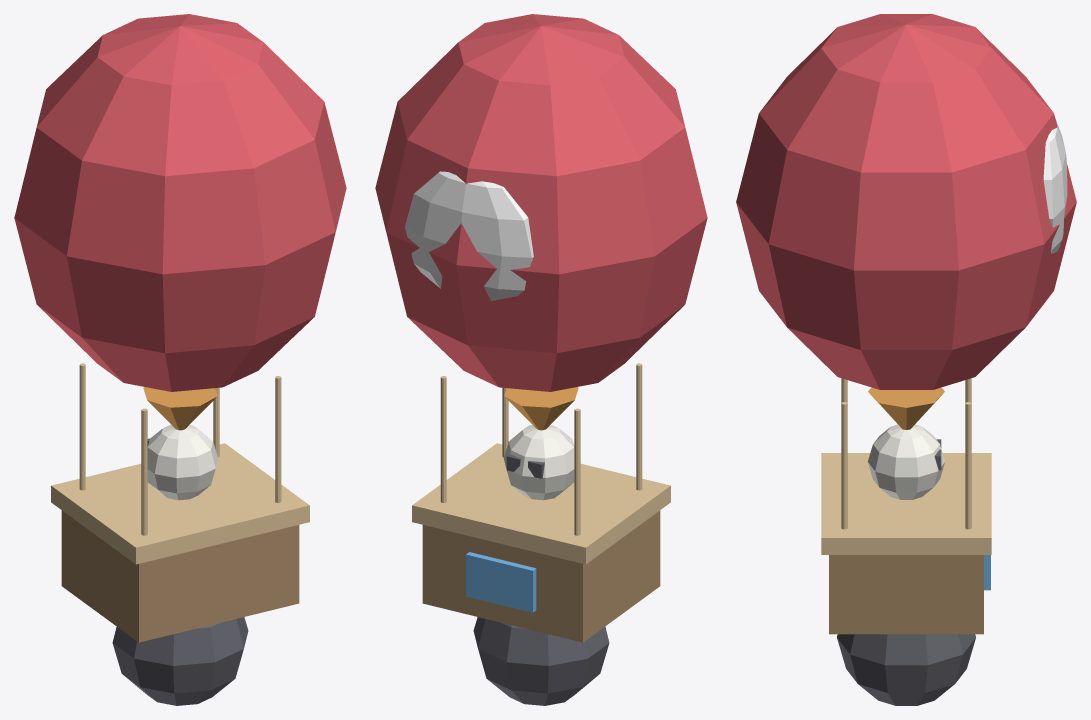
Rendered from balloon.glb.
The picture shows the model from 3 angles, left to right: view 1: azimuth 30°, elevation 25°; view 2: azimuth 150°, elevation 25°; view 3: azimuth 270°, elevation 25°; orthographic projection.
Parts seen in each view (by area): view 1: balloon; view 2: balloon; view 3: balloon.
Boxes of the visible parts, x1=… form: balloon: x1=14, y1=14, x2=346, y2=705; balloon: x1=375, y1=14, x2=707, y2=705; balloon: x1=736, y1=14, x2=1076, y2=705.
Bounding box in the file's own units: 2.3 × 5.3 × 2.42.
